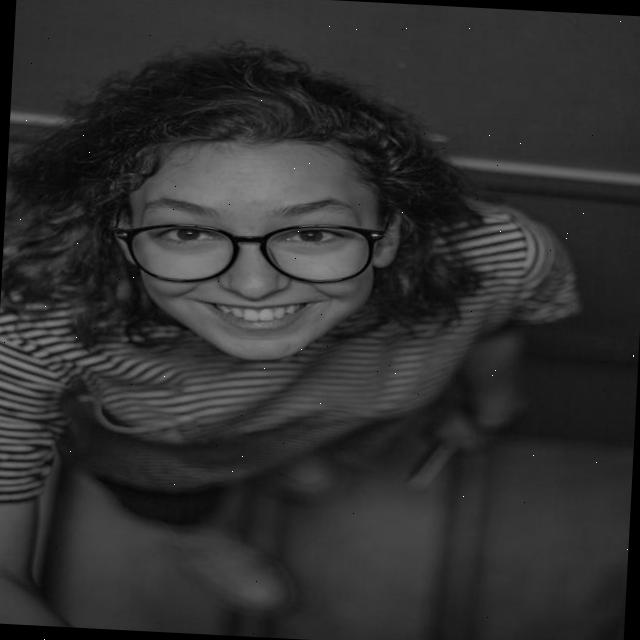Happiness: (120, 130, 386, 371)
